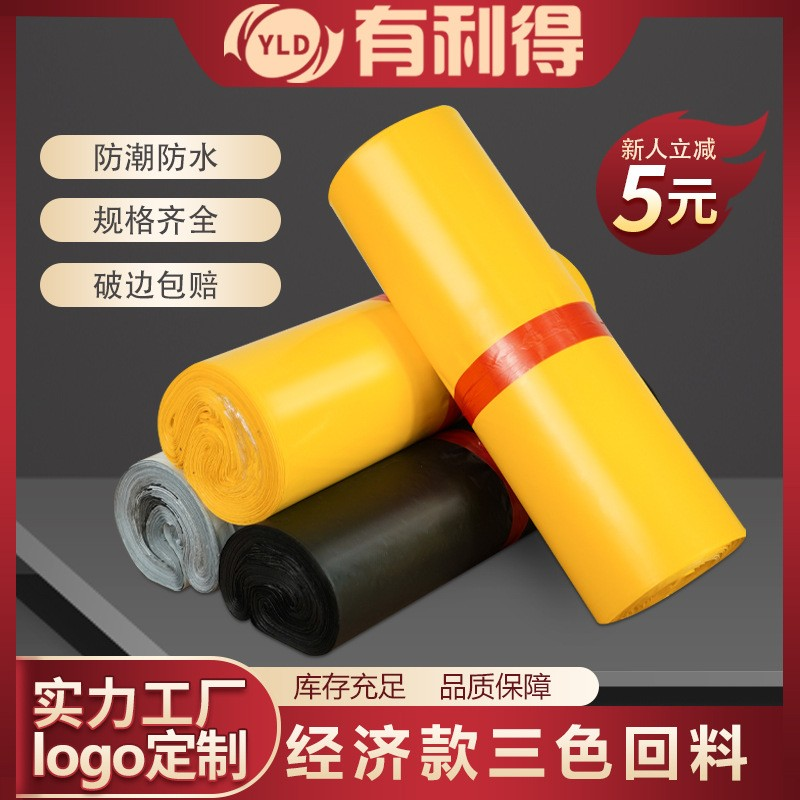塑料袋: (116, 106, 711, 655)
